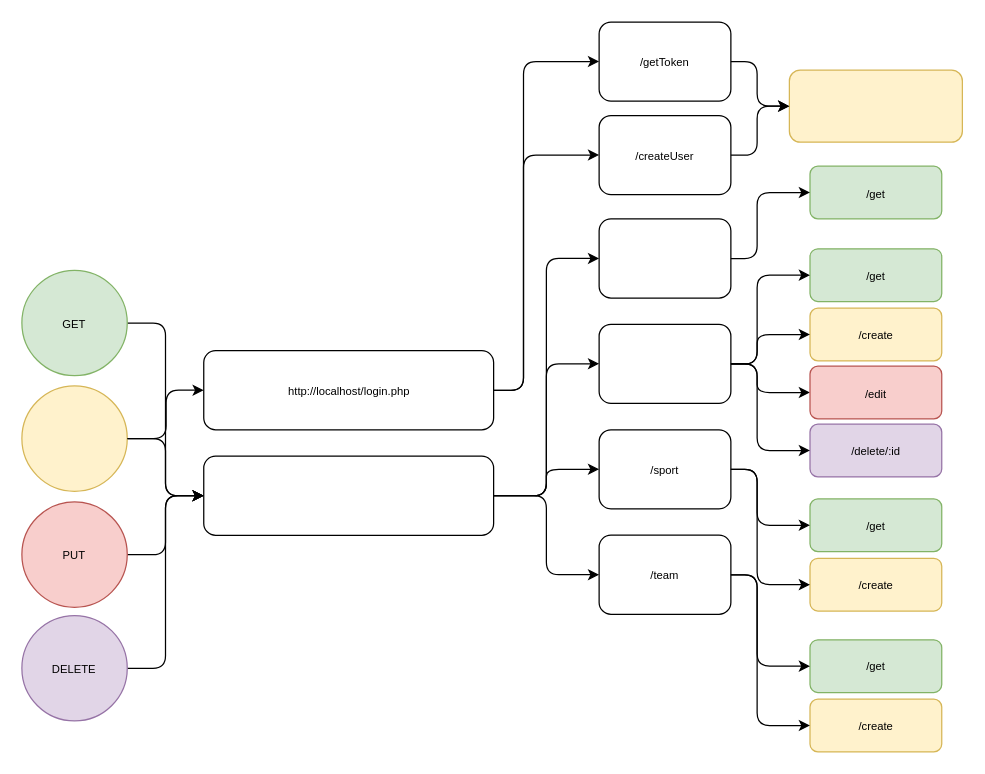
Image size: 985x774. Some labels were removed from this diagram. Here are the shapes that lost their labels. From the top down, the box of each, then its label:
(788, 69, 962, 142): ?username=:USERNAME& password=:PASSWORD
(598, 218, 731, 298): /basicFee
(598, 323, 731, 403): /member
(21, 385, 127, 491): POST
(202, 455, 494, 535): http://localhost/index.php
